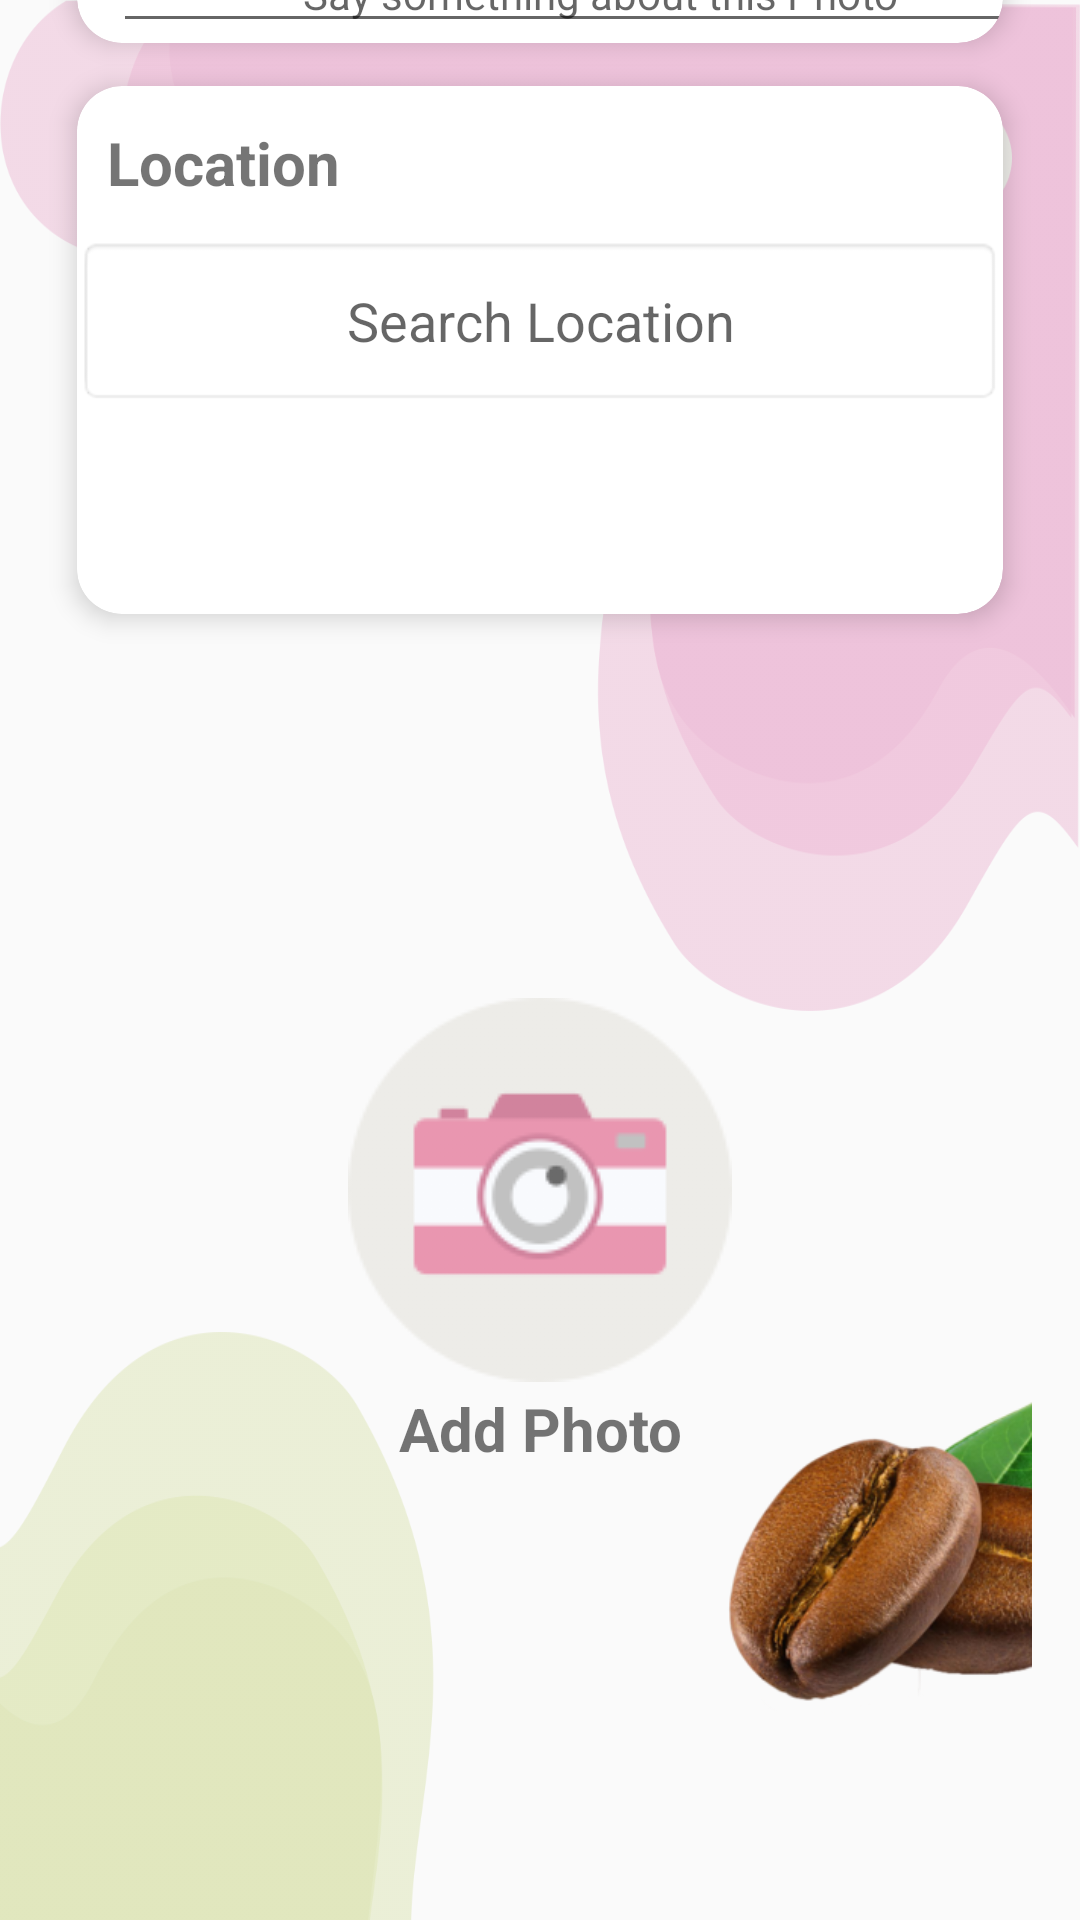

Where icons sit on this 1080 × 1920 app screen, as box=[x1, y1, x2, y2]:
camera: box=[413, 1093, 667, 1275]
